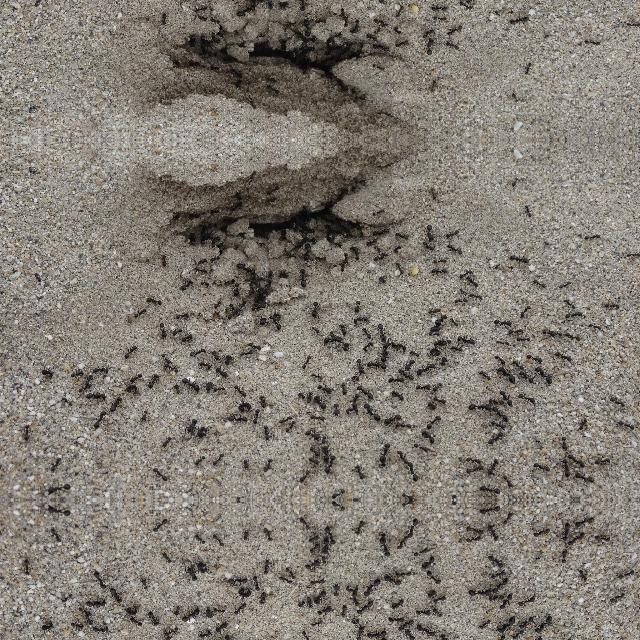Messor: (491, 402, 513, 424), (491, 575, 513, 597), (533, 614, 553, 638), (570, 469, 598, 485), (570, 514, 598, 530), (86, 408, 108, 428), (495, 363, 517, 383), (533, 362, 553, 384), (86, 571, 108, 591), (495, 616, 517, 636), (44, 504, 70, 520), (362, 401, 382, 421), (362, 578, 382, 598), (44, 480, 70, 494), (182, 374, 200, 394), (108, 392, 124, 414), (108, 585, 124, 607), (466, 399, 490, 413), (466, 586, 490, 600), (179, 566, 197, 584), (182, 606, 200, 624), (321, 332, 341, 348), (416, 624, 436, 640), (566, 532, 586, 548), (365, 356, 387, 370), (455, 332, 477, 346), (508, 252, 530, 266), (508, 12, 530, 26), (405, 458, 419, 479), (179, 416, 197, 432), (356, 384, 374, 400), (518, 368, 536, 384), (477, 482, 501, 494), (356, 599, 374, 615), (518, 615, 536, 631), (477, 505, 501, 517), (376, 441, 390, 461), (416, 360, 436, 374), (300, 242, 314, 262), (237, 261, 257, 275), (370, 250, 390, 264), (422, 220, 436, 240), (463, 462, 483, 476), (615, 418, 635, 432), (566, 452, 586, 466), (376, 538, 390, 558), (405, 520, 419, 540), (300, 16, 314, 36), (237, 3, 257, 17), (90, 624, 110, 638), (422, 38, 436, 58), (382, 412, 401, 426), (298, 266, 310, 288), (158, 318, 170, 340), (326, 524, 338, 546), (230, 588, 252, 600), (370, 15, 390, 28), (428, 2, 448, 15), (424, 414, 440, 430), (132, 304, 148, 320), (424, 569, 440, 585), (146, 612, 162, 628), (303, 427, 321, 441), (85, 390, 106, 402), (445, 240, 463, 254), (303, 558, 321, 572), (85, 597, 106, 609), (445, 24, 463, 38), (365, 629, 387, 640), (326, 454, 338, 474), (90, 362, 110, 374), (428, 264, 448, 276), (20, 558, 32, 578), (463, 524, 483, 536), (615, 568, 635, 580), (20, 422, 32, 441), (382, 574, 401, 586), (330, 484, 346, 498), (300, 353, 314, 369), (146, 372, 162, 386), (152, 465, 168, 479), (50, 456, 64, 472), (122, 344, 138, 358), (542, 326, 558, 340), (500, 473, 514, 489), (610, 394, 626, 408), (284, 566, 298, 582), (152, 520, 168, 534), (50, 527, 64, 543), (60, 592, 74, 608), (500, 510, 514, 526), (230, 400, 252, 410), (354, 462, 366, 480), (249, 300, 267, 312), (530, 276, 548, 288), (525, 351, 543, 363), (564, 308, 582, 320), (532, 461, 550, 473), (532, 526, 550, 538), (392, 419, 413, 429), (376, 318, 386, 339), (392, 570, 413, 580), (232, 602, 245, 618), (489, 417, 506, 429), (489, 570, 506, 582), (320, 443, 330, 463), (228, 413, 248, 423), (493, 338, 513, 348), (369, 225, 389, 235), (592, 454, 612, 464), (320, 536, 330, 556), (228, 576, 248, 586), (369, 43, 389, 53), (592, 535, 612, 545), (396, 367, 414, 378), (195, 424, 209, 438), (414, 439, 428, 453), (314, 394, 328, 408), (284, 418, 298, 432), (498, 390, 512, 404), (334, 321, 348, 335), (268, 314, 282, 328), (222, 352, 236, 366), (60, 392, 74, 406), (180, 276, 194, 290), (464, 273, 478, 287), (432, 252, 446, 266), (329, 236, 343, 250), (256, 592, 270, 606), (195, 561, 209, 575), (414, 546, 428, 560), (420, 556, 434, 570), (498, 595, 512, 609), (432, 12, 446, 26), (329, 28, 343, 42), (317, 382, 333, 394), (459, 266, 475, 278), (560, 298, 576, 310), (584, 230, 600, 242), (466, 452, 482, 464), (174, 308, 190, 320), (159, 550, 171, 566), (354, 520, 366, 536), (330, 502, 346, 514), (317, 605, 333, 617), (68, 620, 84, 632), (459, 0, 475, 12), (584, 36, 600, 48), (466, 535, 482, 547), (610, 592, 626, 604), (391, 388, 404, 402), (232, 382, 245, 396), (391, 597, 404, 611), (262, 423, 272, 441), (342, 404, 360, 414), (354, 356, 364, 374), (309, 300, 319, 318), (232, 279, 242, 297), (139, 404, 149, 422), (336, 256, 346, 274), (450, 294, 468, 304), (492, 315, 510, 325), (506, 325, 524, 335), (488, 457, 498, 475), (560, 458, 570, 476), (602, 300, 620, 310), (262, 558, 272, 576), (396, 534, 406, 552), (342, 585, 360, 595), (396, 622, 414, 632), (488, 524, 498, 542), (560, 523, 570, 541), (276, 411, 292, 422), (38, 367, 54, 378), (351, 242, 362, 258), (565, 331, 581, 342), (353, 624, 364, 640), (351, 20, 362, 36), (163, 362, 180, 372), (163, 627, 180, 637), (336, 5, 346, 22), (308, 456, 322, 468), (256, 394, 270, 406), (159, 434, 171, 448), (420, 430, 434, 442), (520, 392, 534, 404), (353, 312, 367, 324), (208, 348, 220, 362), (444, 228, 458, 240), (203, 218, 217, 230), (256, 313, 268, 327), (308, 531, 322, 543), (210, 536, 224, 548), (193, 532, 205, 546), (314, 592, 328, 604), (520, 595, 534, 607), (124, 606, 138, 618), (444, 38, 458, 50), (299, 468, 309, 484), (396, 448, 406, 464), (310, 412, 326, 422), (416, 382, 432, 392), (448, 344, 464, 354), (437, 312, 447, 328), (189, 345, 205, 355), (75, 382, 91, 392), (68, 368, 84, 378), (187, 230, 197, 246), (394, 258, 404, 274), (478, 369, 494, 379), (522, 201, 532, 217), (428, 183, 438, 199), (394, 230, 410, 240), (559, 434, 569, 450), (299, 515, 309, 531), (276, 578, 292, 588), (488, 594, 504, 604), (38, 622, 54, 632), (187, 32, 197, 48), (139, 578, 149, 594), (394, 4, 404, 20), (478, 620, 494, 630), (522, 61, 532, 77), (428, 79, 438, 95), (394, 38, 410, 48), (227, 306, 240, 318), (512, 356, 524, 369), (348, 391, 359, 405), (248, 341, 262, 352), (348, 594, 359, 608), (203, 49, 217, 60), (308, 446, 320, 458), (193, 454, 205, 466), (376, 348, 388, 360), (431, 380, 443, 392), (514, 333, 530, 342), (558, 278, 570, 290), (422, 238, 434, 250), (586, 322, 602, 331), (308, 541, 320, 553), (431, 607, 443, 619), (298, 0, 310, 12), (422, 28, 434, 40), (511, 629, 524, 640), (262, 457, 272, 471), (210, 452, 224, 462), (304, 389, 314, 403), (382, 339, 396, 349), (432, 394, 446, 404), (440, 353, 450, 367), (426, 303, 440, 313), (198, 360, 212, 370), (214, 366, 228, 376), (83, 372, 93, 386), (160, 252, 170, 266), (124, 382, 138, 392), (128, 370, 142, 380), (469, 290, 483, 300), (521, 302, 531, 316), (230, 201, 244, 211), (262, 528, 272, 542), (300, 630, 314, 640), (304, 596, 314, 610), (198, 629, 212, 639), (214, 623, 228, 633), (83, 613, 93, 627), (160, 12, 170, 26), (230, 67, 244, 77), (559, 550, 569, 564), (494, 352, 506, 363), (180, 331, 193, 341), (577, 416, 587, 429), (252, 406, 260, 422), (399, 491, 415, 499), (388, 376, 404, 384), (488, 396, 504, 404), (352, 297, 360, 313), (146, 294, 162, 302), (624, 250, 640, 258), (399, 500, 415, 508), (310, 578, 326, 586), (308, 620, 324, 628), (416, 608, 432, 616), (75, 608, 91, 616), (624, 20, 640, 28), (393, 340, 405, 350), (405, 359, 417, 369), (424, 399, 436, 409), (339, 340, 351, 350), (194, 265, 206, 275), (171, 324, 181, 336), (32, 270, 42, 282), (372, 206, 384, 216), (268, 184, 280, 194), (186, 209, 198, 219), (405, 630, 417, 640), (424, 590, 436, 600), (194, 3, 206, 13), (372, 62, 384, 72), (268, 84, 280, 94), (186, 59, 198, 69), (577, 570, 587, 582), (428, 346, 442, 354), (239, 348, 253, 356), (211, 384, 225, 392), (252, 578, 260, 592), (432, 596, 446, 604), (222, 632, 236, 640), (211, 607, 225, 615), (200, 34, 208, 48), (128, 620, 142, 628), (509, 174, 518, 186), (509, 92, 518, 104), (200, 230, 208, 243), (350, 373, 360, 383), (448, 314, 458, 324), (361, 326, 371, 336), (362, 340, 372, 350), (211, 298, 221, 308), (458, 286, 468, 296), (350, 616, 360, 626), (242, 458, 250, 470), (332, 402, 340, 414), (308, 372, 324, 378), (339, 382, 347, 394), (427, 329, 439, 337), (270, 310, 282, 318), (242, 529, 250, 541), (332, 585, 340, 597), (339, 605, 347, 617), (388, 616, 404, 622), (234, 188, 243, 198), (234, 80, 243, 90), (252, 293, 258, 307), (344, 250, 351, 262), (249, 166, 255, 180), (344, 16, 351, 28), (249, 98, 255, 112), (328, 328, 336, 338), (310, 325, 320, 333), (202, 280, 212, 288), (265, 278, 273, 288), (237, 298, 245, 308), (160, 353, 170, 361), (197, 256, 207, 264), (210, 253, 220, 261), (204, 608, 212, 618), (197, 14, 207, 22), (210, 17, 220, 25), (204, 382, 212, 391), (378, 274, 387, 282), (440, 632, 449, 640), (525, 636, 543, 640), (228, 301, 235, 311), (32, 0, 42, 7), (464, 0, 478, 5), (441, 336, 452, 342), (296, 390, 304, 398), (393, 243, 401, 251), (296, 601, 304, 609), (393, 27, 401, 35), (408, 349, 418, 355), (174, 382, 180, 392), (174, 607, 180, 617), (494, 635, 506, 640), (319, 434, 326, 442), (432, 340, 446, 344), (319, 557, 326, 565), (210, 29, 216, 38), (210, 240, 216, 248), (235, 500, 242, 506), (250, 282, 254, 292), (208, 637, 219, 640), (235, 494, 242, 498), (377, 0, 386, 3), (160, 638, 170, 640)
